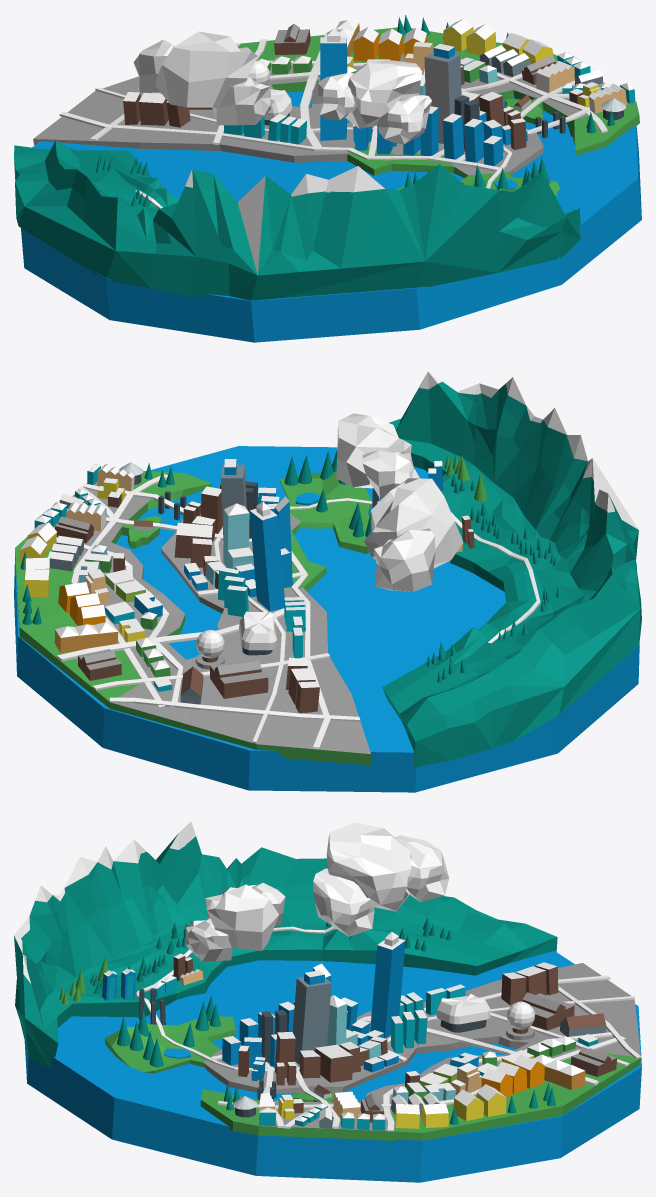
Rendered from Little City.glb.
3 renders of one model, top to bottom at view 1: azimuth 30°, elevation 25°; view 2: azimuth 150°, elevation 25°; view 3: azimuth 270°, elevation 25°, orthographic.
Parts seen in each view (by area): view 1: group1971097135, group1926126815, group1656777012, group1550195885, group197357736, group748927950, group1602713423, group644830360, group1334676454, group1385259583, group1802490509, group465555899 (+22 smaller); view 2: group1971097135, group1926126815, group1656777012, group1550195885, group197357736, group465555899, group1385259583, group62122215, group1518361734, group1802490509, group592530000, group700178591 (+22 smaller); view 3: group1926126815, group1971097135, group1656777012, group1550195885, group197357736, group1602713423, group748927950, group1385259583, group465555899, group700178591, group1334676454, group62122215 (+26 smaller).
Part boxes in pixels (x1,y1,x2,y2): group1971097135: (14,140,580,300); group1926126815: (21,91,641,342); group1656777012: (33,27,639,196); group1550195885: (155,31,257,107); group197357736: (345,60,421,128); group748927950: (424,44,461,143); group1602713423: (212,76,271,125); group644830360: (59,111,499,171); group1334676454: (378,94,431,144); group1385259583: (320,29,346,140); group1802490509: (312,73,354,120); group465555899: (133,39,174,92); group1971097135: (382,371,641,767); group1926126815: (14,446,639,792); group1656777012: (15,471,371,765); group1550195885: (364,478,462,568); group197357736: (336,413,411,488); group465555899: (373,528,435,591); group1385259583: (249,501,284,611); group62122215: (214,498,540,743); group1518361734: (210,659,268,698); group1802490509: (362,450,419,498); group592530000: (223,503,253,569); group700178591: (239,611,276,655); group1926126815: (24,951,641,1182); group1971097135: (14,821,557,1069); group1656777012: (105,963,640,1140); group1550195885: (326,822,411,911); group197357736: (205,884,278,951); group1602713423: (313,868,374,936); group748927950: (292,970,331,1064); group1385259583: (370,932,405,1038); group465555899: (395,835,449,901); group700178591: (437,994,490,1032); group1334676454: (185,918,232,961); group62122215: (136,926,634,1071).
Size of the model in its own units: 2.93 by 1.07 by 2.97.
